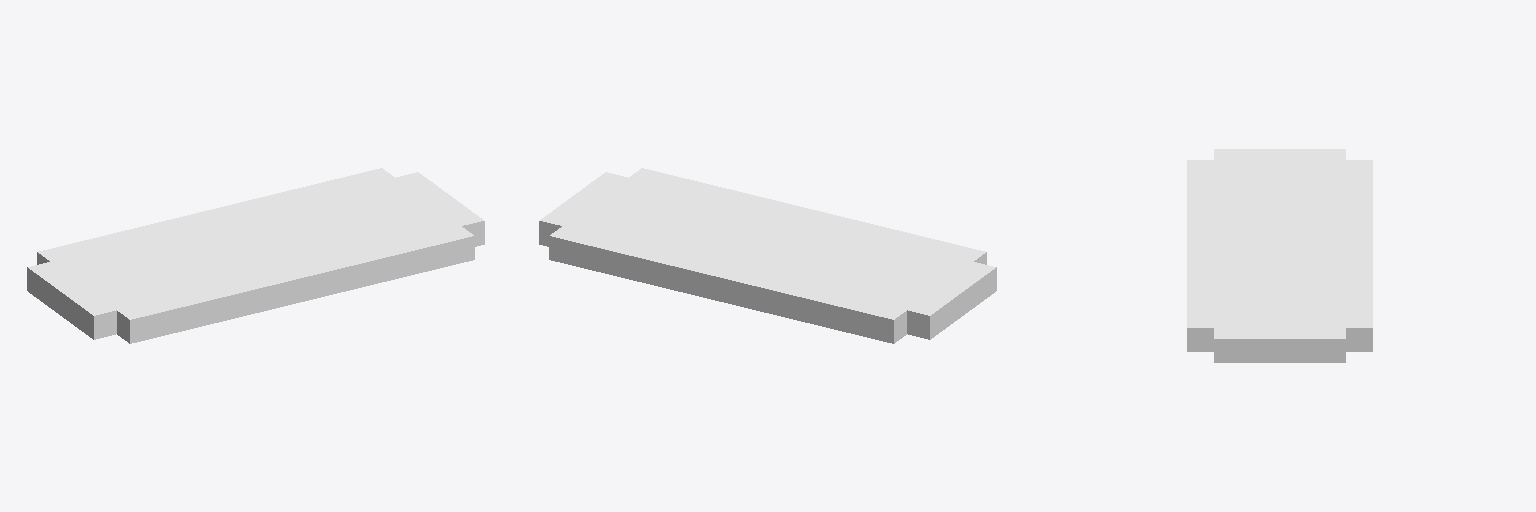
File: carpet_2.obj
The picture shows the model from 3 angles: view 1: azimuth 30°, elevation 25°; view 2: azimuth 150°, elevation 25°; view 3: azimuth 270°, elevation 25°; orthographic projection.
Visible parts, largest first — view 1: object 1; view 2: object 1; view 3: object 1.
Part boxes in pixels (x1,y1,x2,y2): object 1: (27,168,484,343); object 1: (539,168,996,343); object 1: (1187,149,1372,362).
Size of the model in its own units: 1.7 by 0.1 by 0.7.